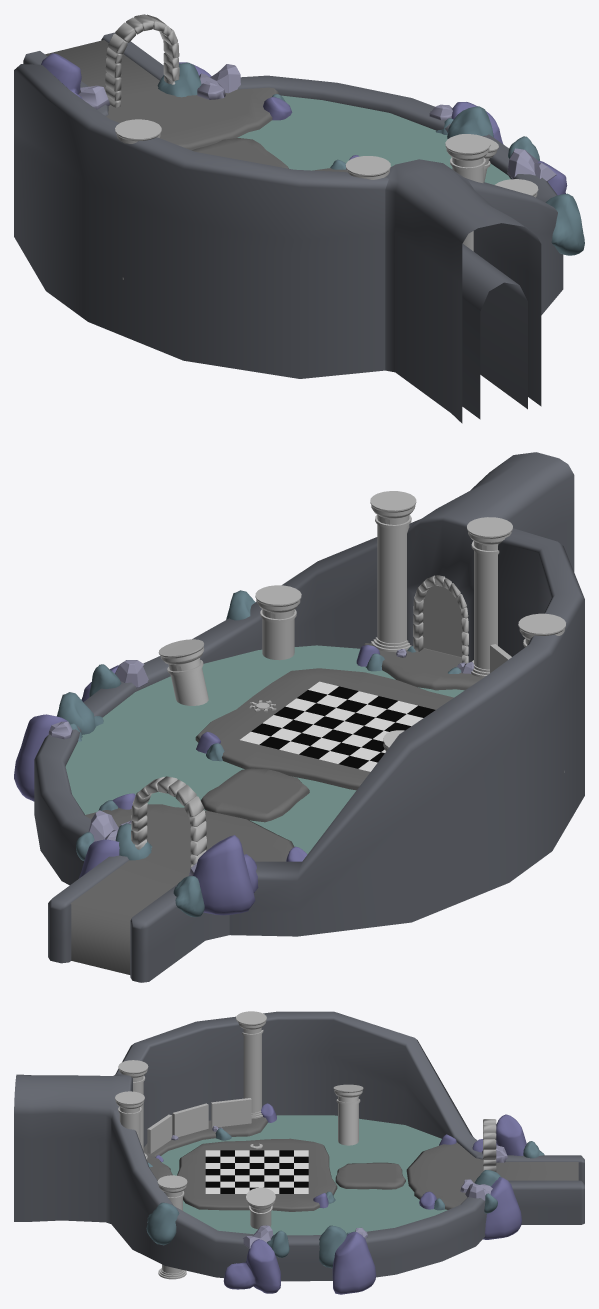
File: WaterPuzzle.fbx
The picture shows the model from 3 angles, top to bottom: view 1: azimuth 30°, elevation 25°; view 2: azimuth 150°, elevation 25°; view 3: azimuth 270°, elevation 25°; orthographic projection. The views are drawn at different scales.
Visible parts, largest first — view 1: wall1, wall4, water, platform4, wall2, wall6, rocks_lp1, pilar4, rock_03_lp14, platform3, rock_03_lp11, rock_02_lp1 (+7 smaller); view 2: wall1, water, wall4, platform4, wall2, tiles_puzzle, platform1, wall6, pilar4, wall5, pilar5, platform3 (+16 smaller); view 3: wall1, wall4, water, wall2, wall6, platform1, platform4, tiles_puzzle, wall7, rock_02_lp2, rock_02_lp3, pilar1 (+18 smaller).
Part boxes in pixels (bbox=[...]): wall1: bbox=[14, 64, 388, 378]; wall4: bbox=[385, 159, 541, 423]; water: bbox=[237, 95, 510, 184]; platform4: bbox=[45, 40, 278, 150]; wall2: bbox=[464, 174, 563, 315]; wall6: bbox=[238, 75, 450, 132]; rocks_lp1: bbox=[105, 14, 179, 107]; pilar4: bbox=[445, 134, 490, 251]; rock_03_lp14: bbox=[545, 193, 584, 255]; platform3: bbox=[192, 138, 288, 168]; rock_03_lp11: bbox=[447, 106, 493, 138]; rock_02_lp1: bbox=[41, 53, 82, 99]; wall1: bbox=[229, 528, 584, 936]; water: bbox=[65, 645, 464, 854]; wall4: bbox=[407, 452, 574, 662]; platform4: bbox=[70, 804, 294, 974]; wall2: bbox=[135, 520, 416, 691]; tiles_puzzle: bbox=[240, 681, 435, 771]; platform1: bbox=[195, 668, 453, 790]; wall6: bbox=[34, 726, 91, 885]; pilar4: bbox=[370, 491, 416, 652]; wall5: bbox=[130, 875, 229, 982]; pilar5: bbox=[467, 517, 512, 677]; platform3: bbox=[201, 768, 309, 822]; wall1: bbox=[115, 1011, 481, 1157]; wall4: bbox=[14, 1073, 132, 1223]; water: bbox=[161, 1115, 447, 1235]; wall2: bbox=[111, 1110, 253, 1277]; wall6: bbox=[365, 1197, 486, 1277]; platform1: bbox=[177, 1138, 337, 1211]; platform4: bbox=[406, 1142, 578, 1209]; tiles_puzzle: bbox=[205, 1150, 308, 1193]; wall7: bbox=[508, 1180, 584, 1224]; rock_02_lp2: bbox=[332, 1231, 376, 1294]; rock_02_lp3: bbox=[223, 1239, 280, 1293]; pilar1: bbox=[236, 1011, 266, 1118].
Bounding box in the file's own units: 52.77 × 26.03 × 84.23.
